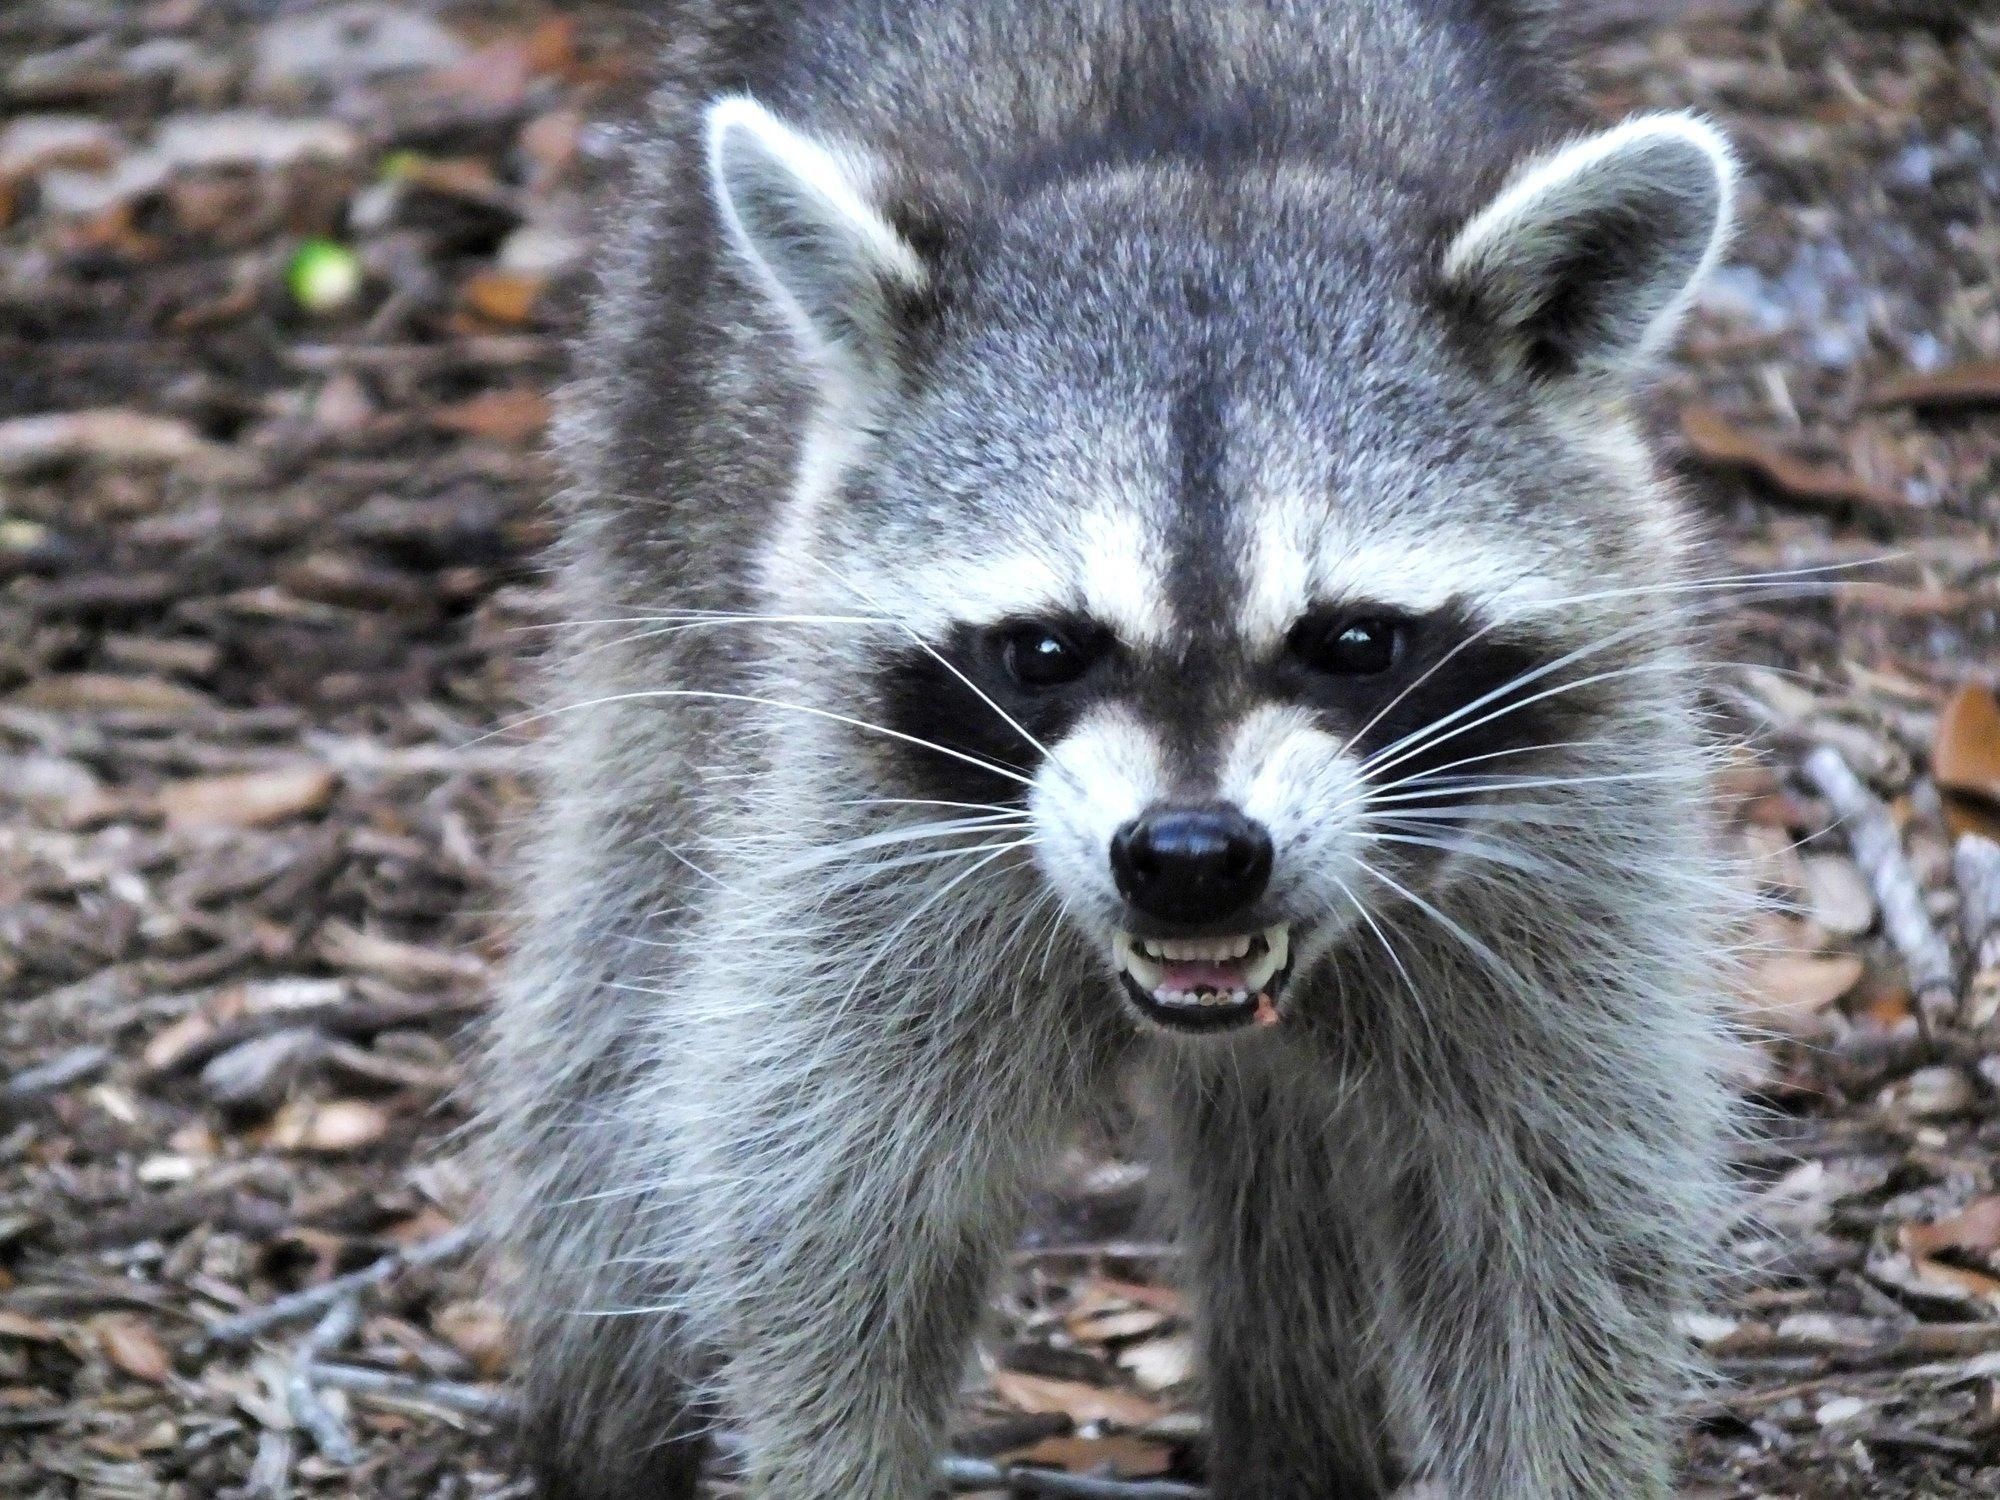raccoon: (476, 0, 1751, 1500)
